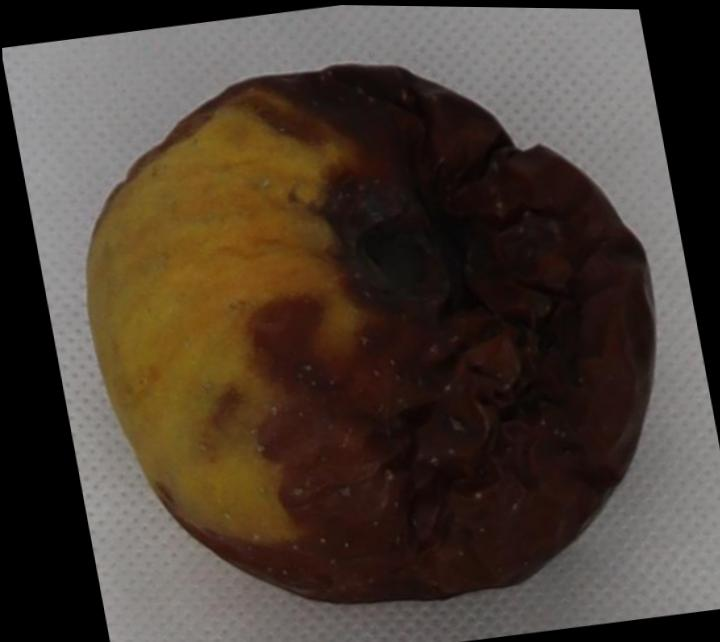apple: (86, 66, 653, 602)
rot_mold_decay: (163, 65, 654, 602)
